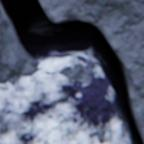brick: (0, 54, 124, 143)
crack: (0, 0, 143, 143)
